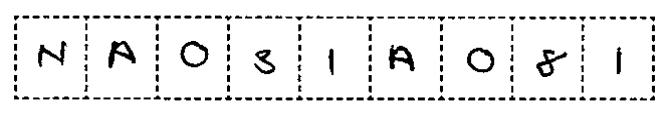0: (462, 40, 500, 81), (174, 38, 214, 75)
1: (599, 40, 635, 80), (317, 42, 347, 80)
3: (247, 46, 282, 77)
8: (529, 42, 570, 81)
A: (385, 37, 423, 77), (103, 35, 141, 71)
N: (28, 34, 74, 78)
